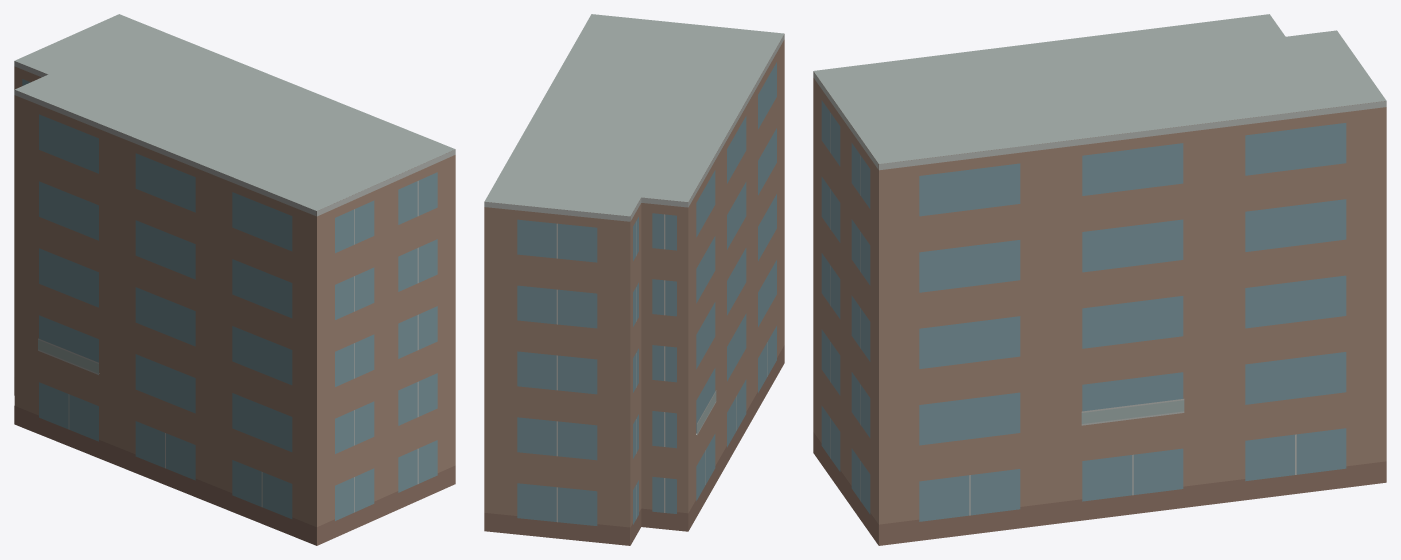
Rendered from survey-upis-32965006.glb.
3 views of the same model, side by side, from view 1: azimuth 30°, elevation 25°; view 2: azimuth 150°, elevation 25°; view 3: azimuth 270°, elevation 25° (orthographic). The views are drawn at different scales.
Parts seen in each view (by area): view 1: survey-upis-32965006.tmp; view 2: survey-upis-32965006.tmp; view 3: survey-upis-32965006.tmp.
Part boxes in pixels (box(x1,y1,x2,y2)): survey-upis-32965006.tmp: box(14, 14, 455, 545); survey-upis-32965006.tmp: box(484, 14, 784, 545); survey-upis-32965006.tmp: box(813, 14, 1386, 545).
Size of the model in its own units: 12.66 by 15 by 20.43.
